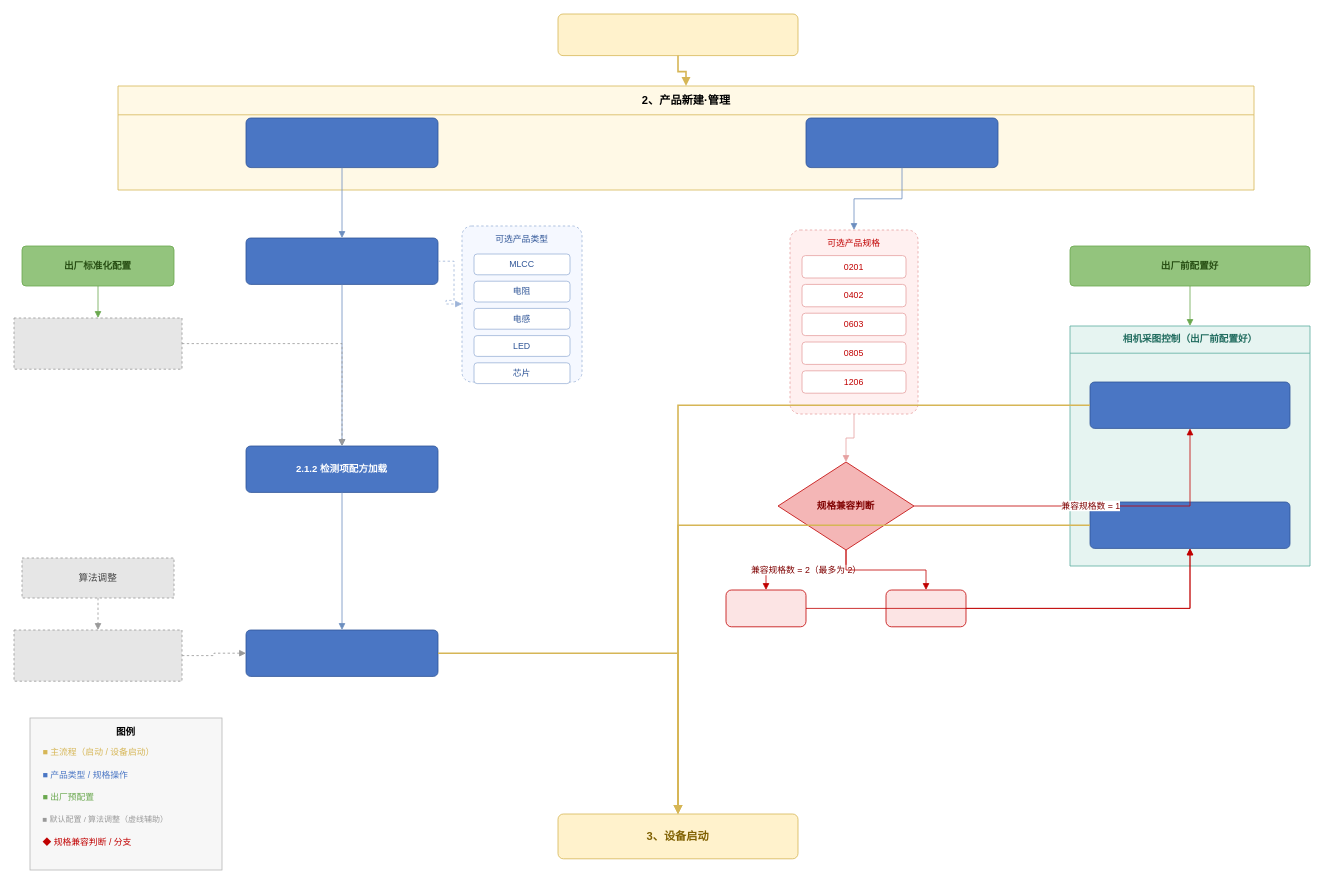
The diagram is 1324 pixels wide and 884 high, and some of its shapes have lost their labels. The centre of each missing label's shape, as x and y in pixels:
1、软件启动（用户手动运行程序）: (677,34)
2.1 产品类型: (341,142)
2.1.1 产品类型判断: (341,260)
2.1.3 检测项配方设置: (341,652)
2.2 产品规格: (901,142)
出厂配置检测项 （全部）: (97,343)
规格 1: (765,608)
规格 2: (925,608)
调用相机参数 1: (1189,404)
调用相机参数 2: (1189,524)
默认检测项 （根据需求调整）: (97,655)
